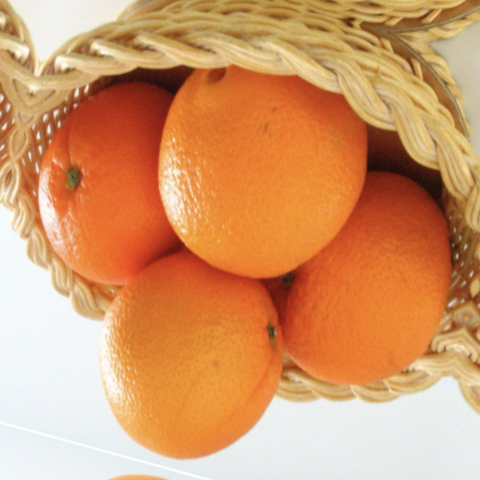orange: (111, 11, 401, 325), (245, 154, 480, 418), (70, 249, 314, 480), (0, 87, 221, 313)
